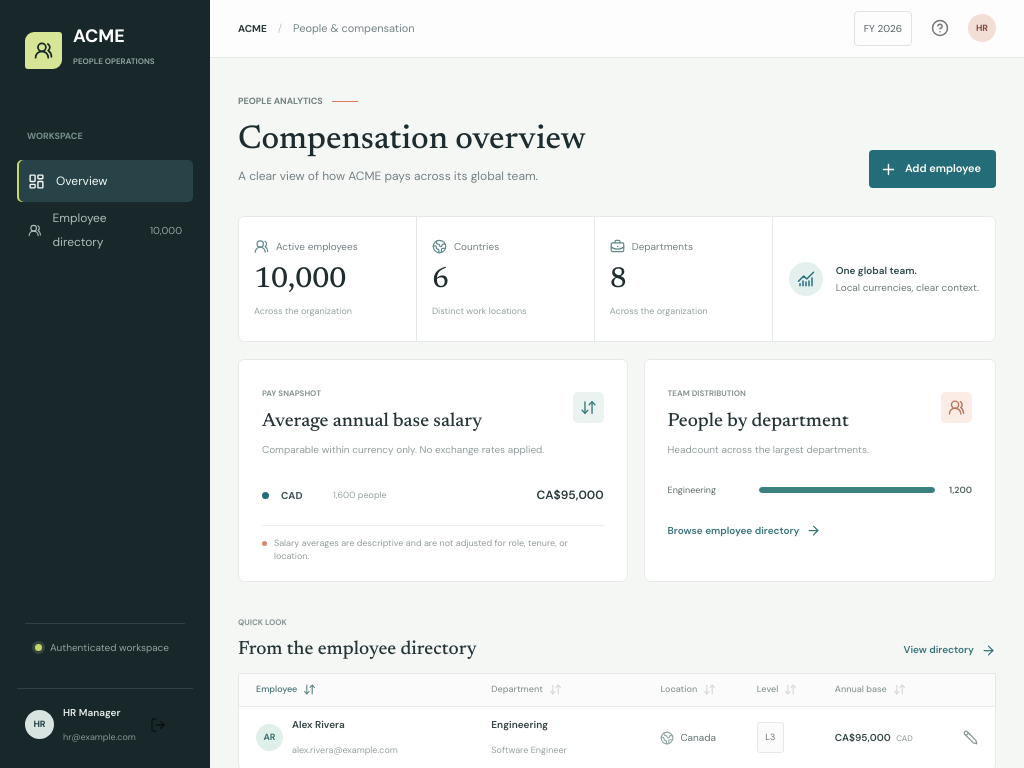
Test: salary workspace › converts entered major currency units to integer minor units when adding an employee
Check: the text "Alex Rivera" is shown, box [292,718,345,731]
Click the button "Add employee": (932, 169) [869,150,996,188]
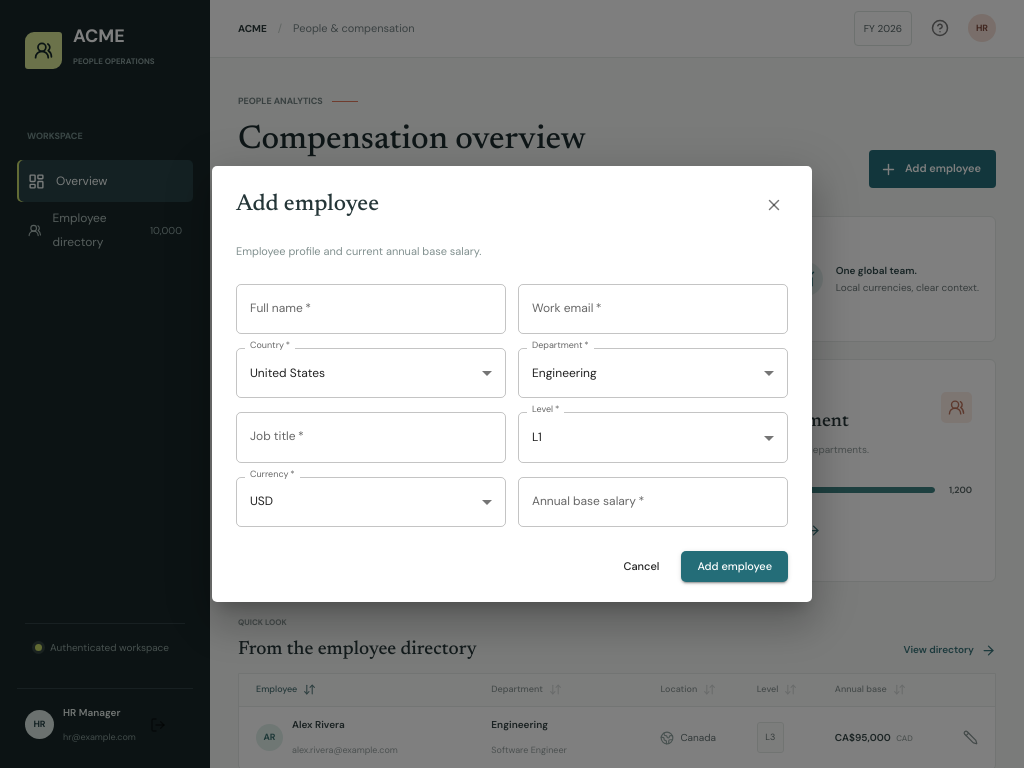
In the field labelled "Full name": (371, 309) [236,284,506,334], type "Jordan Lee"
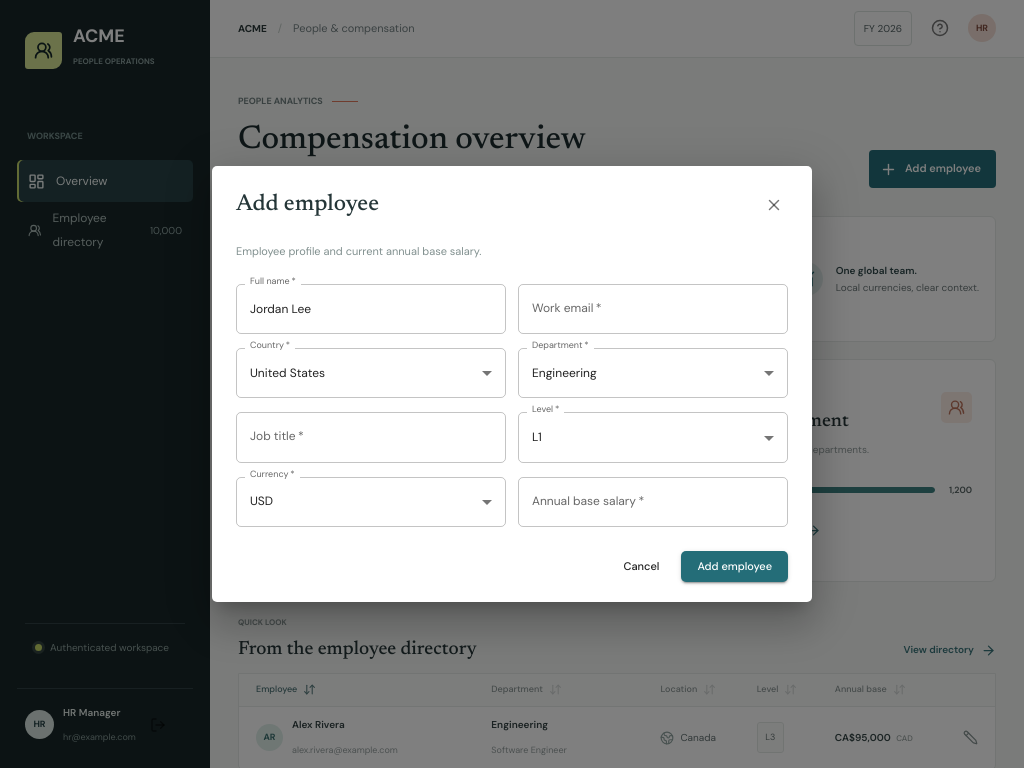
In the field labelled "Work email": (653, 309) [518,284,788,334], type "jordan@example.com"
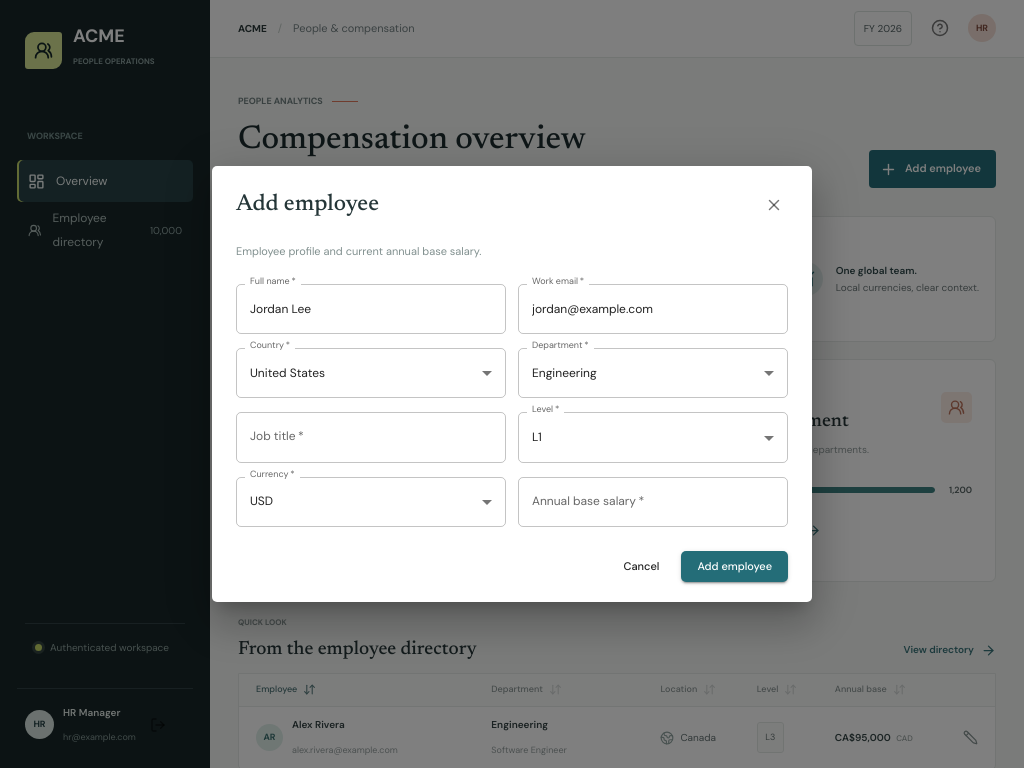
In the field labelled "Job title": (371, 438) [236,412,506,463], type "Product Manager"
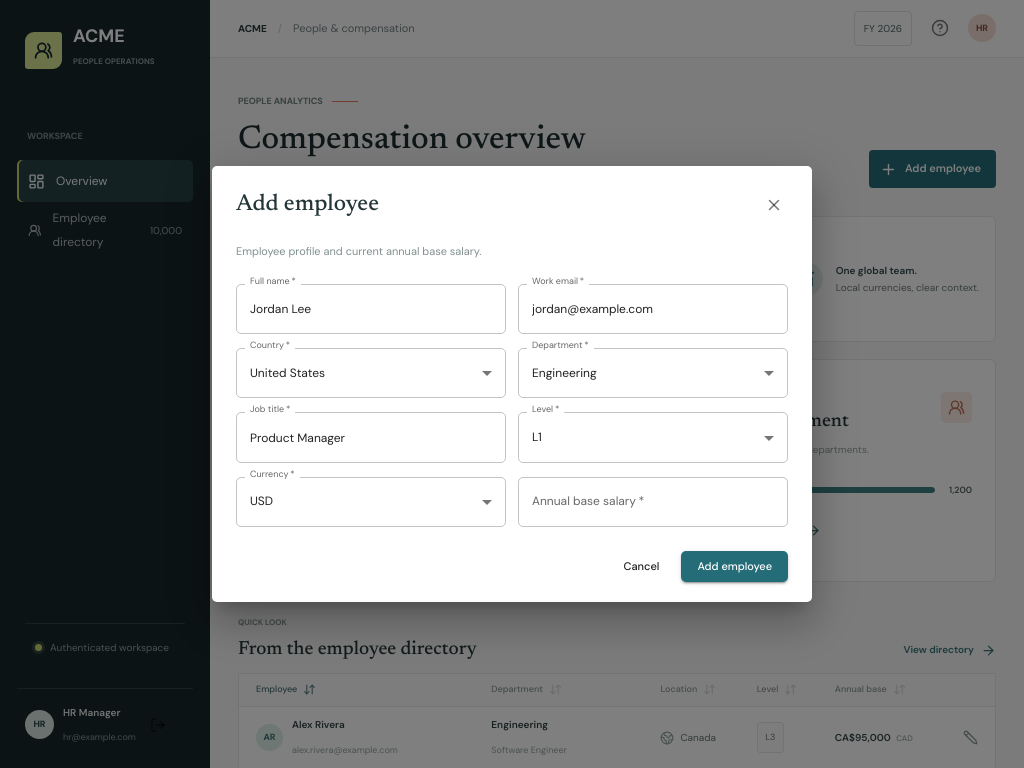
In the number field labelled "Annual base salary": (653, 502) [518,477,788,527], type "95000.25"
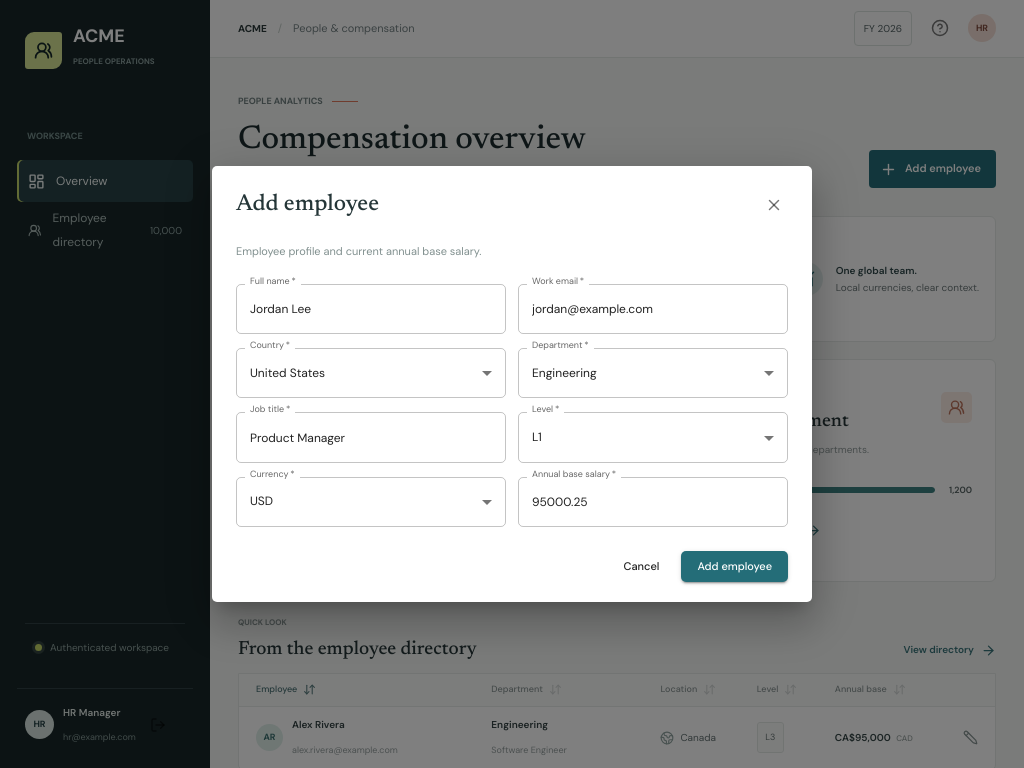
Click the button "Add employee": (735, 567) [681,551,788,582]
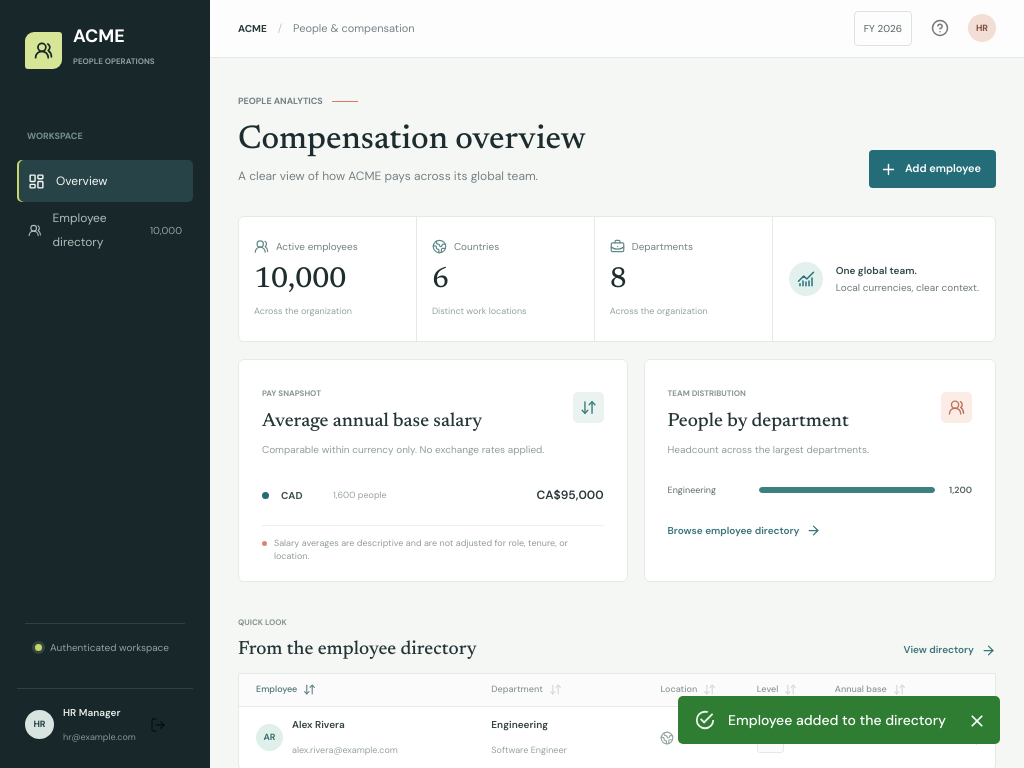
Check: the text "Employee added to the directory" is shown, box [728,711,946,729]
